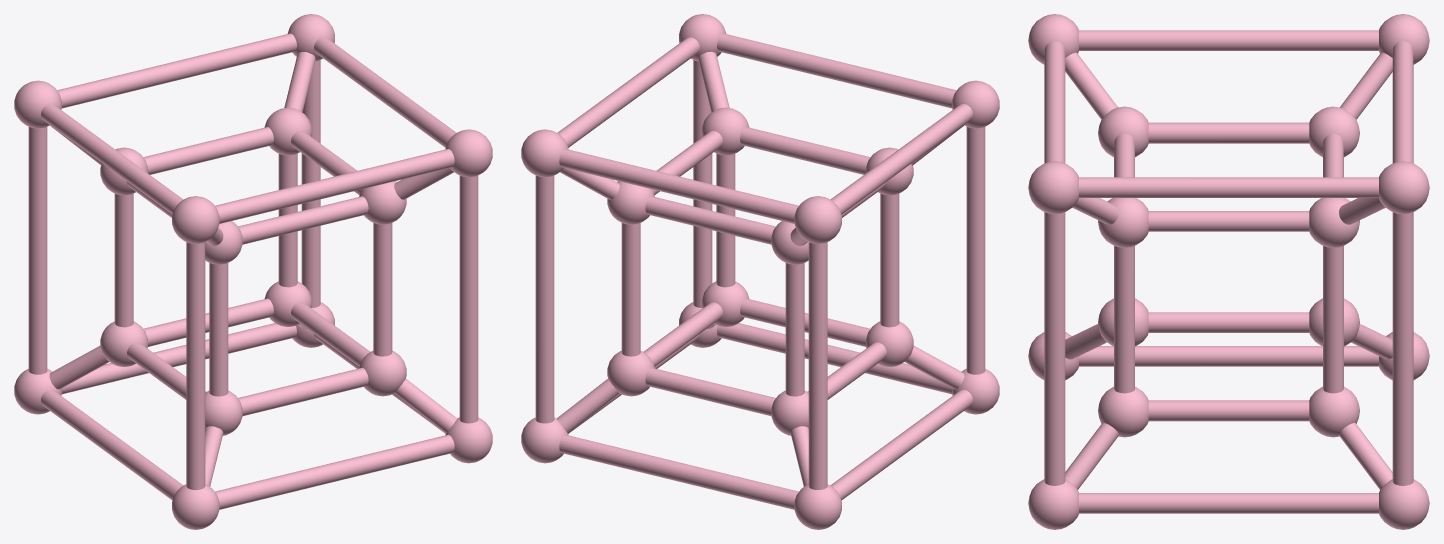
Rendered from hypercube.glb.
3 views of the same model, side by side, from view 1: azimuth 30°, elevation 25°; view 2: azimuth 150°, elevation 25°; view 3: azimuth 270°, elevation 25° (orthographic). The views are drawn at different scales.
Visible parts, largest first — view 1: Hypercube; view 2: Hypercube; view 3: Hypercube.
Part boxes in pixels (x1=…): Hypercube: x1=14, y1=14, x2=492, y2=529; Hypercube: x1=521, y1=14, x2=999, y2=529; Hypercube: x1=1028, y1=14, x2=1429, y2=529.
Size of the model in its own units: 0.3843 by 0.3843 by 0.3843.
